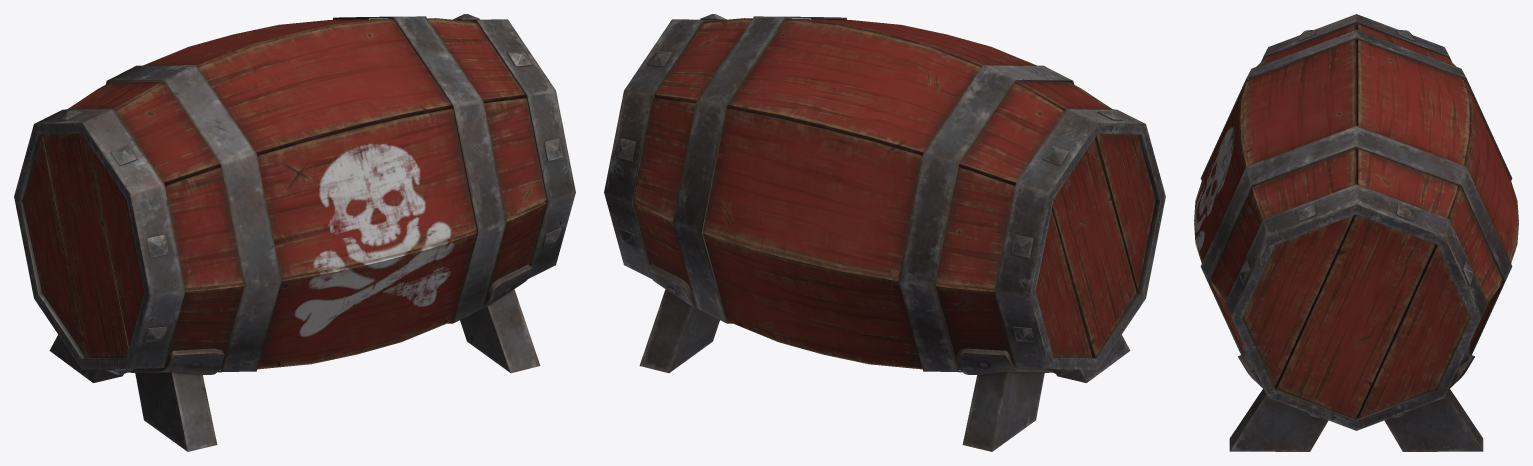
File: Gunpowder Barrel_2.fbx
3 views of the same model, side by side, from view 1: azimuth 30°, elevation 25°; view 2: azimuth 150°, elevation 25°; view 3: azimuth 270°, elevation 25° (orthographic). The views are drawn at different scales.
Parts seen in each view (by area): view 1: Gunpowder Barrel_2; view 2: Gunpowder Barrel_2; view 3: Gunpowder Barrel_2.
Boxes of the visible parts, x1,y1,x2,y2 form: Gunpowder Barrel_2: (14, 14, 575, 451); Gunpowder Barrel_2: (604, 14, 1165, 451); Gunpowder Barrel_2: (1194, 14, 1518, 451).
Bounding box in the file's own units: 157 × 115 × 113.
